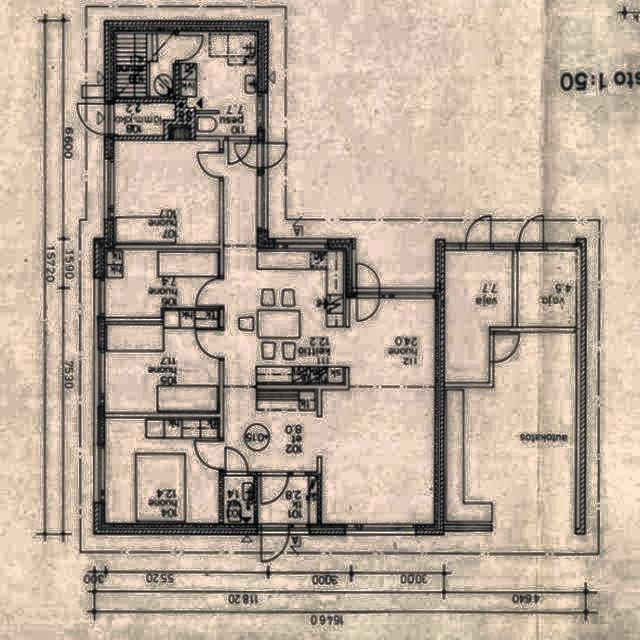room: (106, 419, 220, 523), (105, 310, 220, 413), (114, 140, 221, 244), (444, 250, 513, 384), (179, 32, 258, 137), (106, 250, 219, 322), (517, 250, 577, 327), (114, 31, 175, 101), (258, 476, 316, 523), (114, 103, 174, 136), (224, 476, 254, 523)
